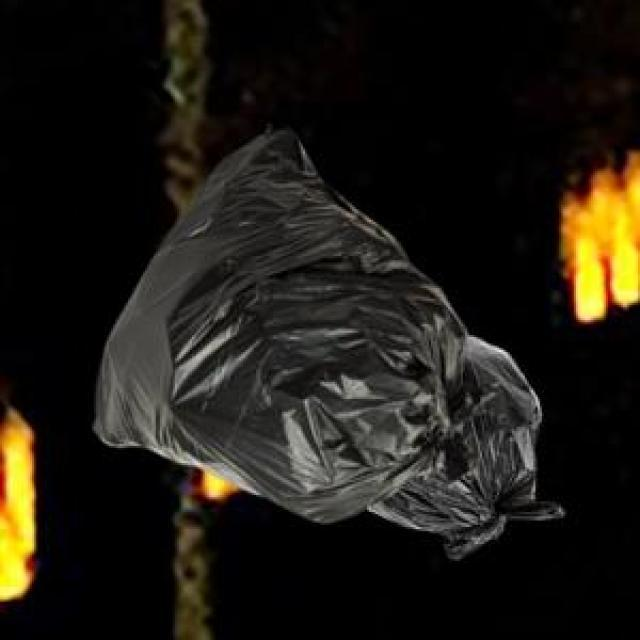Trashbag: (90, 123, 468, 520)
